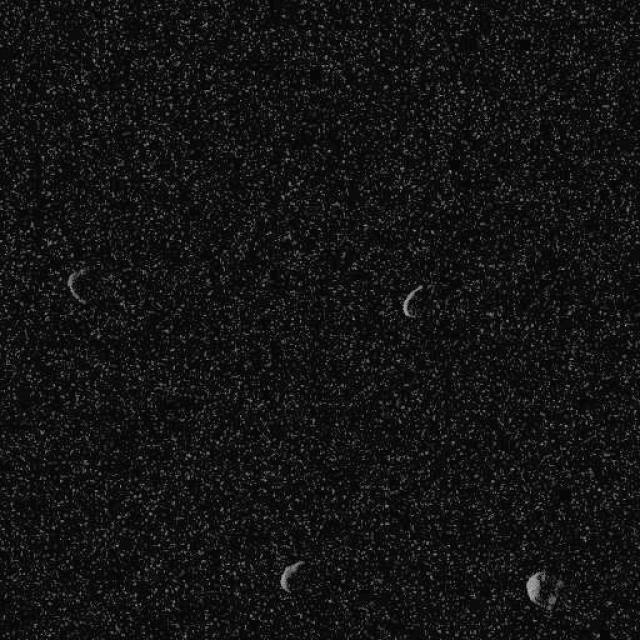D2: (524, 569, 562, 611), (65, 265, 89, 305), (277, 558, 305, 592), (400, 282, 425, 318)
